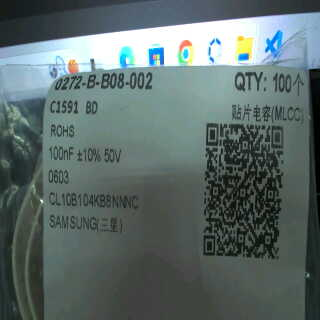100nF: (47, 144, 74, 162)
